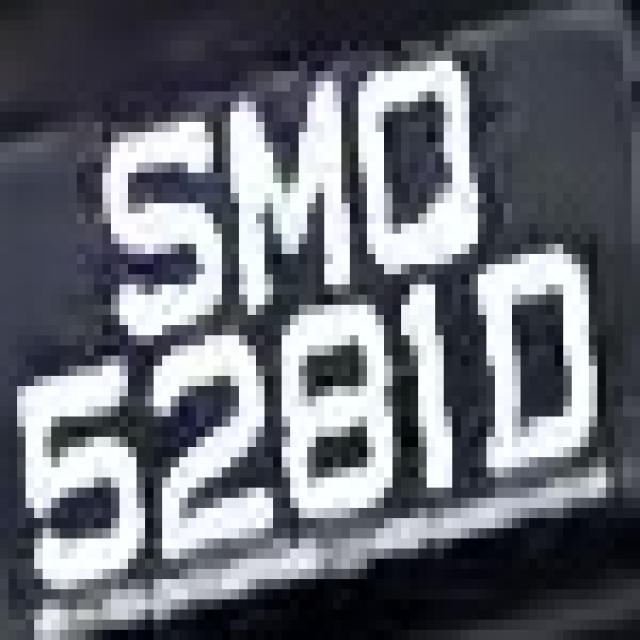1: (392, 274, 487, 549)
2: (128, 325, 290, 579)
5: (0, 335, 162, 589)
8: (265, 315, 401, 538)
D: (469, 224, 606, 528)
M: (196, 41, 350, 315)
Q: (333, 31, 495, 264)
S: (77, 91, 230, 366)
